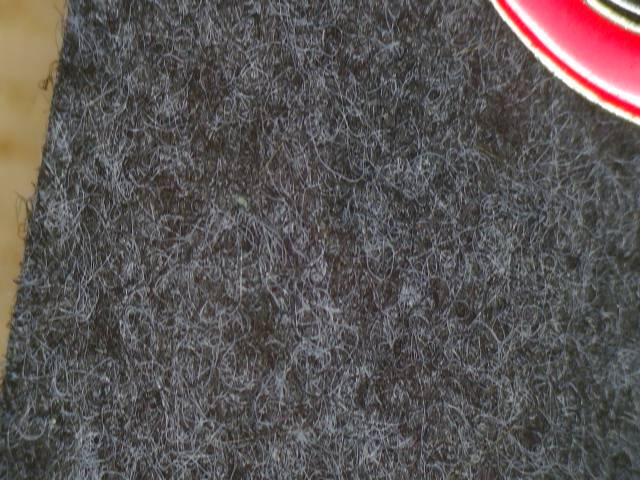Red-Hat: (437, 0, 640, 167)
